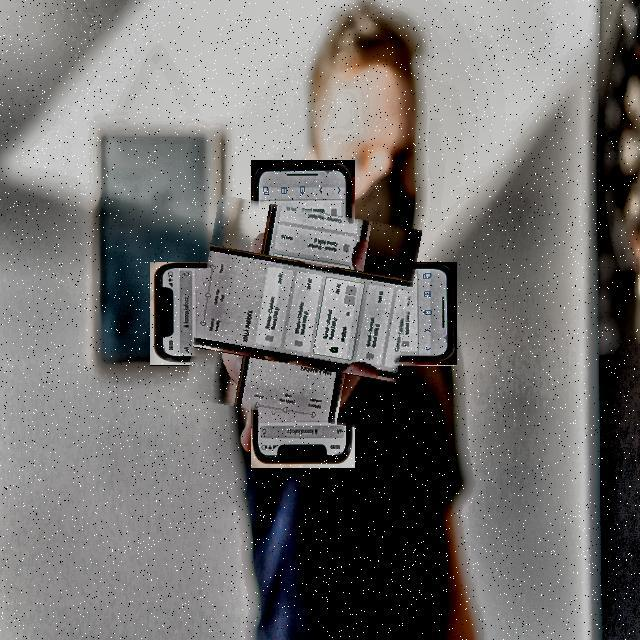Phone: (192, 203, 414, 425)
